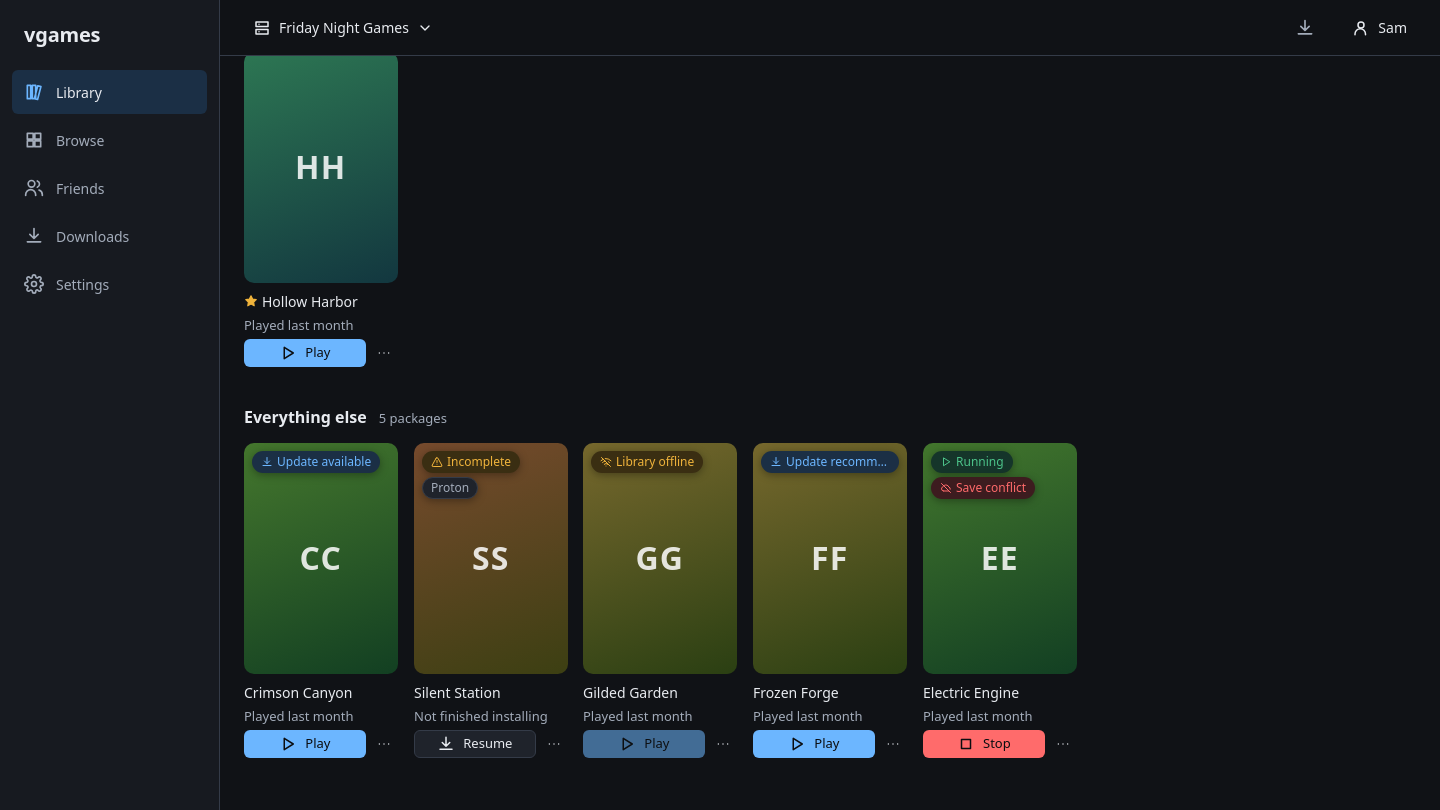
Scenario: library › an incomplete install can be removed or resumed
(page scrolled)
Expected: the element "Silent Station" is shown, x1=414 y1=443 x2=567 y2=758
Click the button named "More actions for Silent Station" at coordinates (553, 744), box x1=539 y1=730 x2=567 y2=758
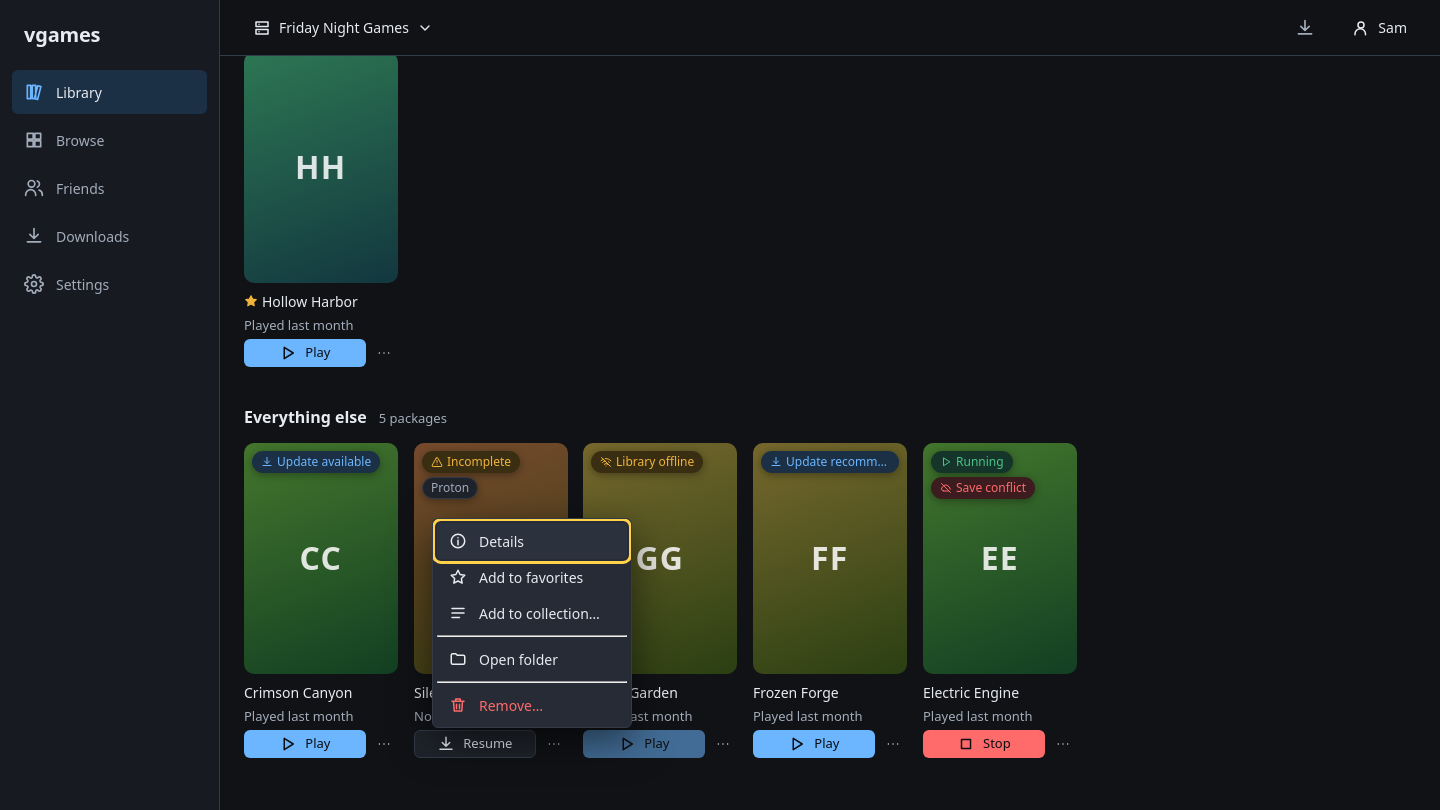
Press Escape
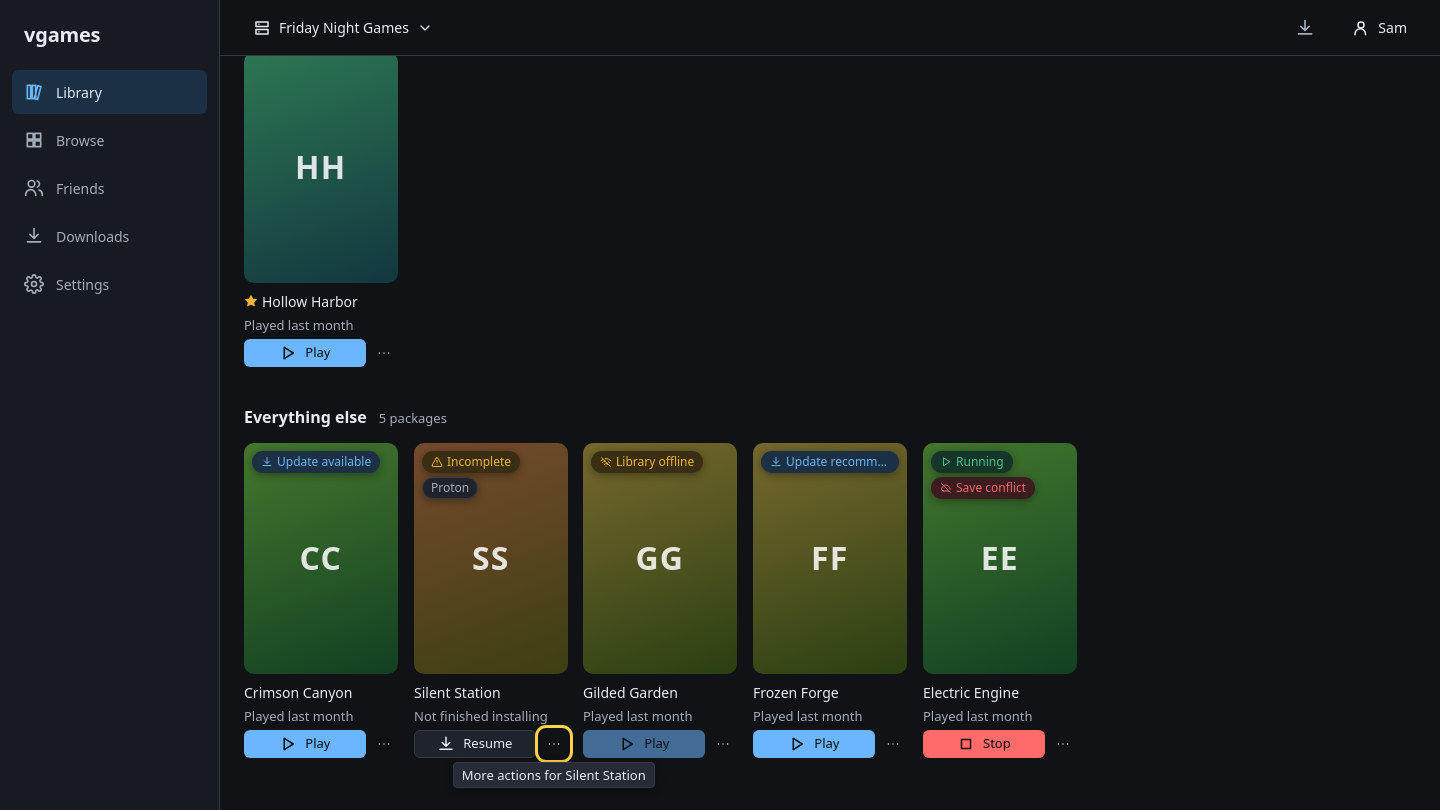
Click the button with aria-label "Resume installing Silent Station" at coordinates (475, 744), box x1=414 y1=730 x2=535 y2=758
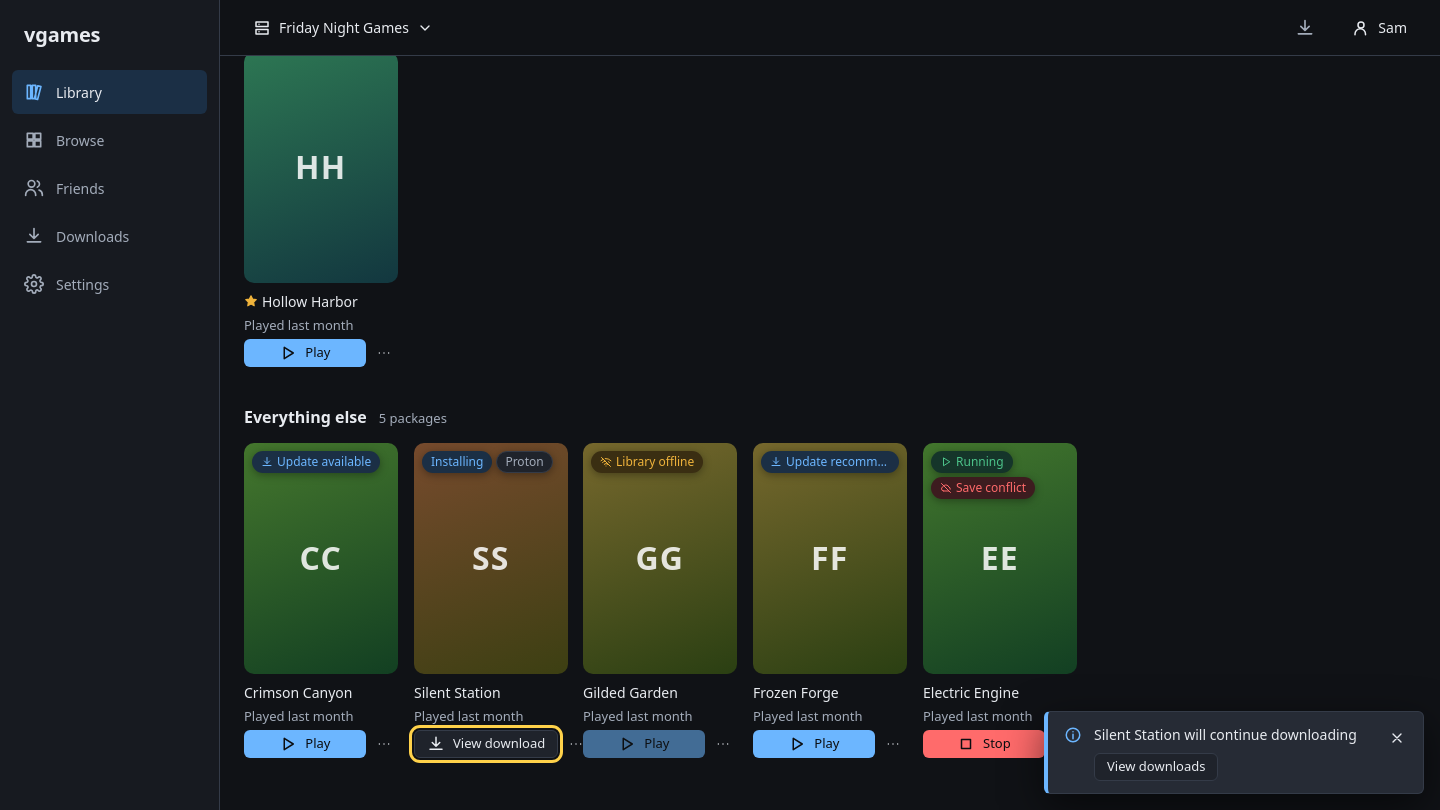
Expected: the text "Silent Station will continue downloading" is shown, x1=1094 y1=724 x2=1371 y2=745
Expected: the button "View download" is shown, x1=414 y1=730 x2=558 y2=758
